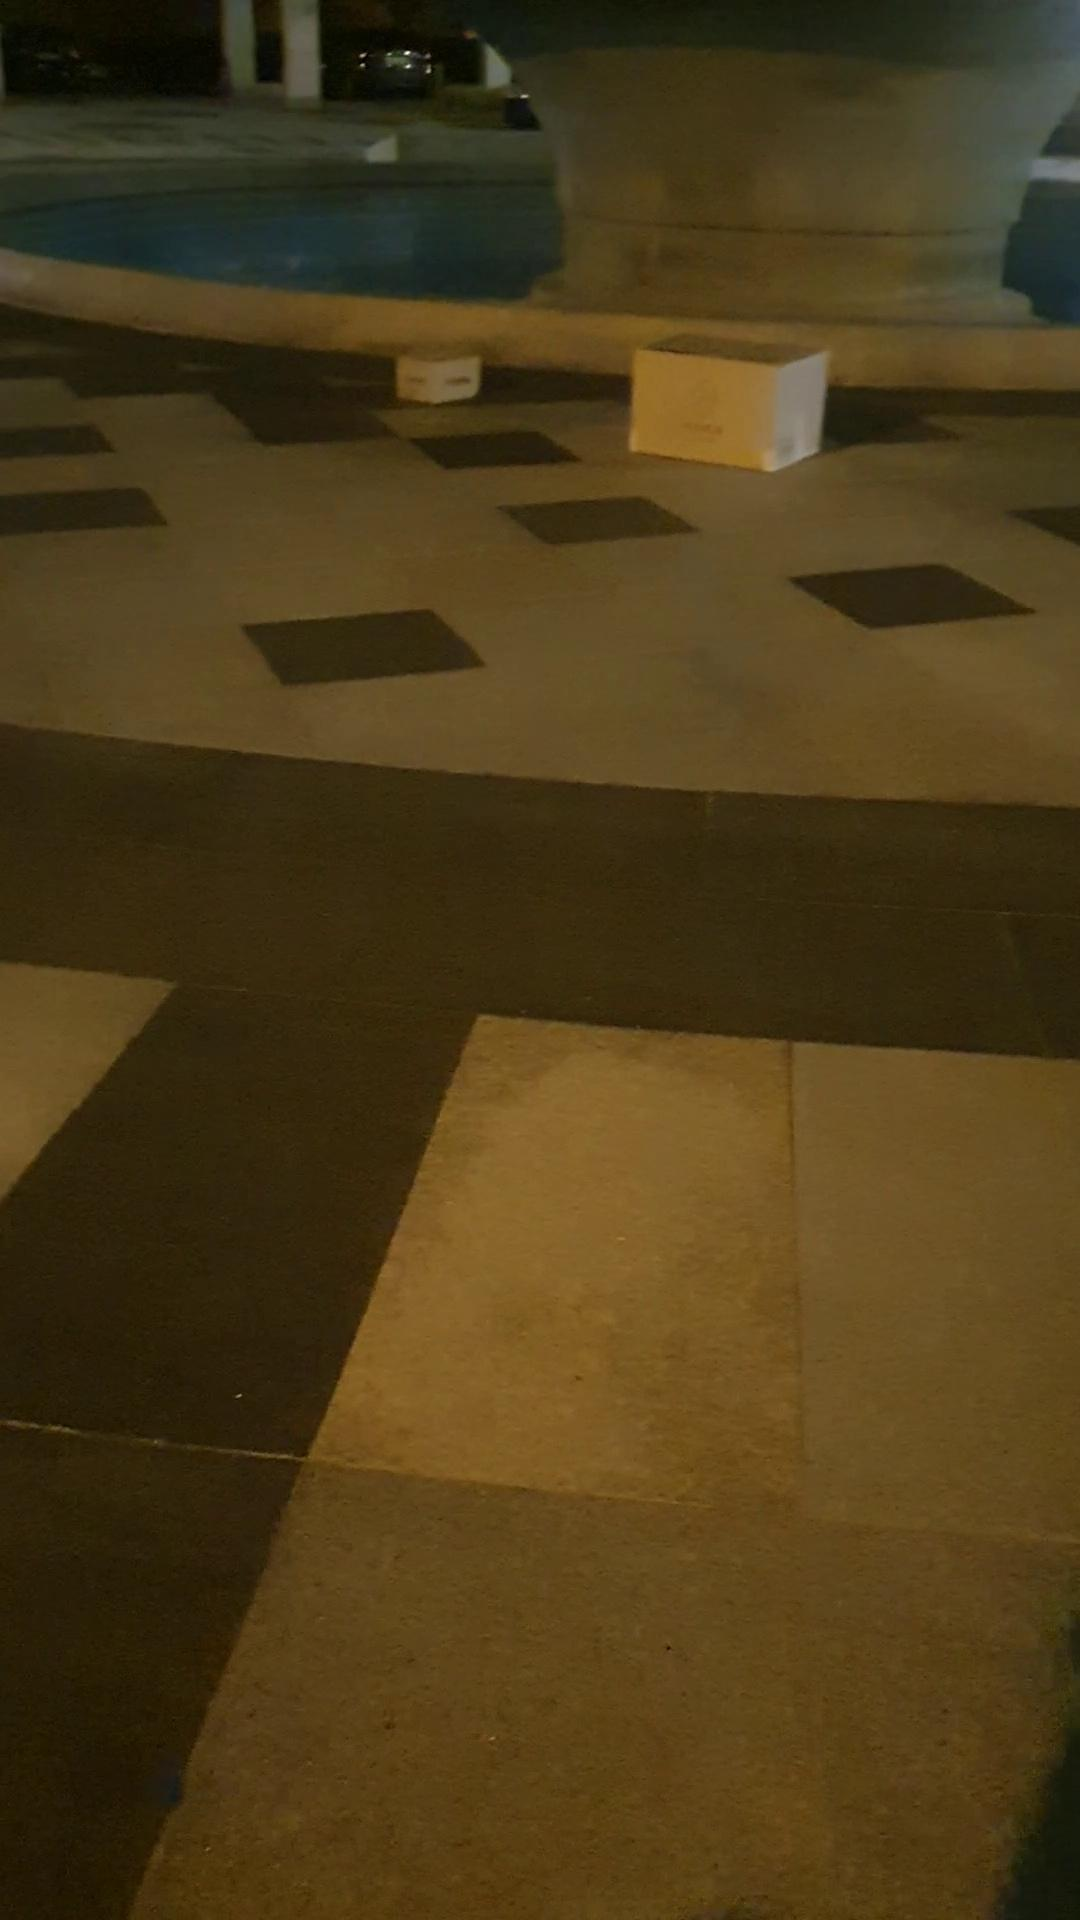Box: (632, 320, 820, 487), (396, 338, 495, 413)
